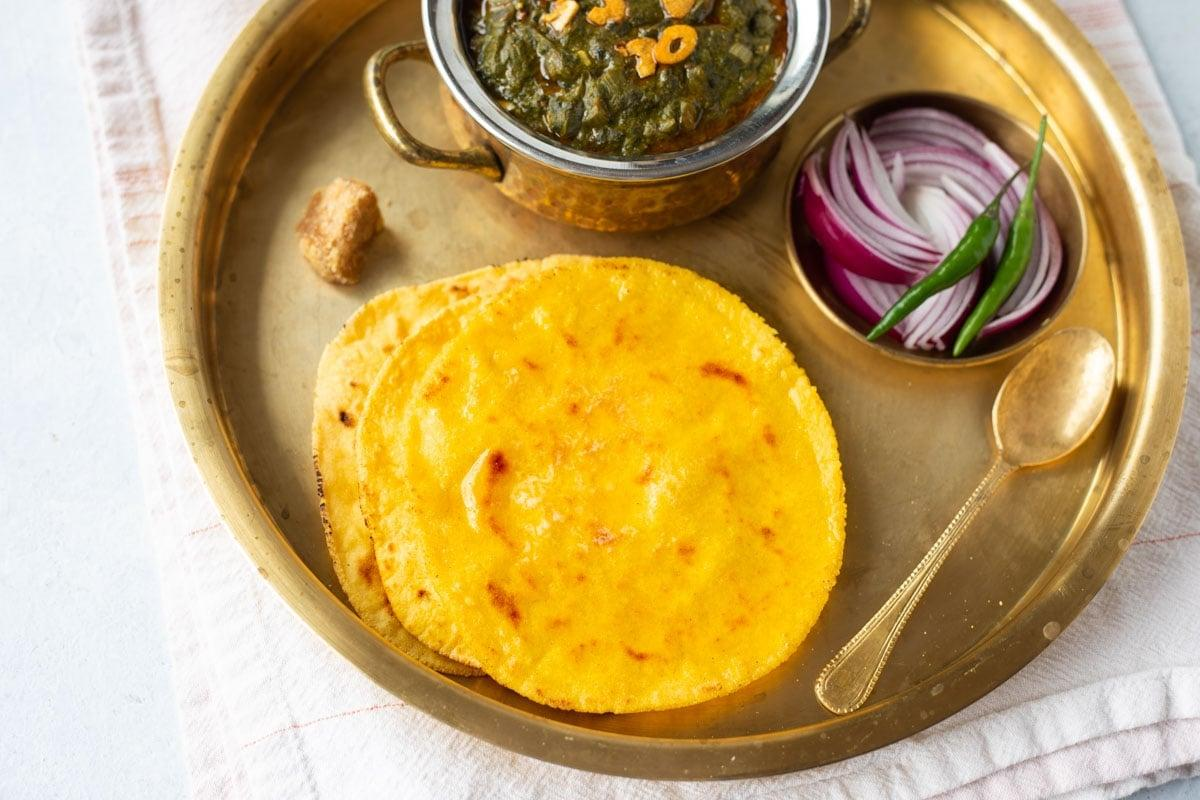saag: (459, 0, 810, 156)
